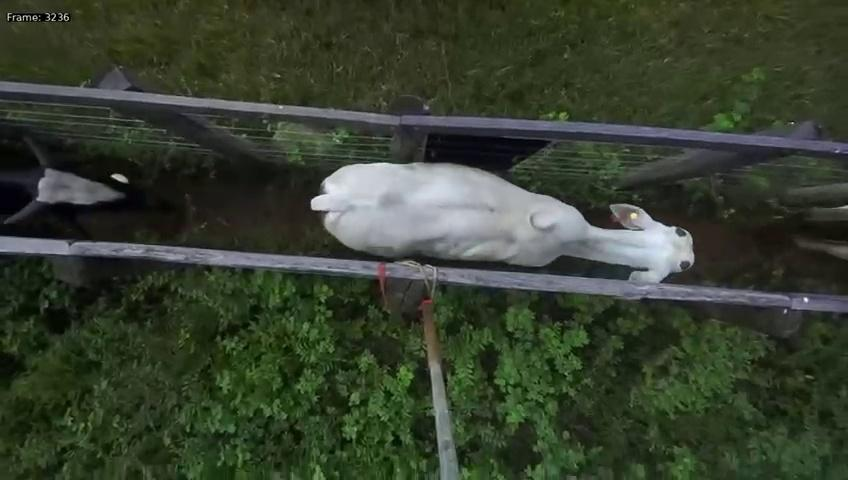cattle: (299, 150, 699, 292)
